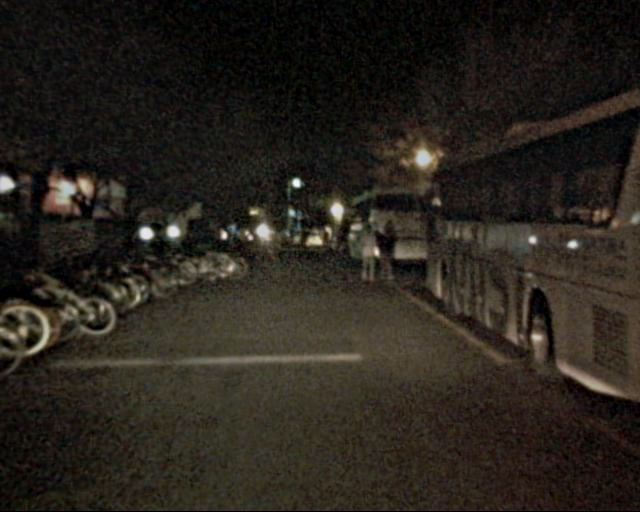person: (372, 225, 397, 286), (355, 225, 380, 285), (328, 226, 346, 269)
